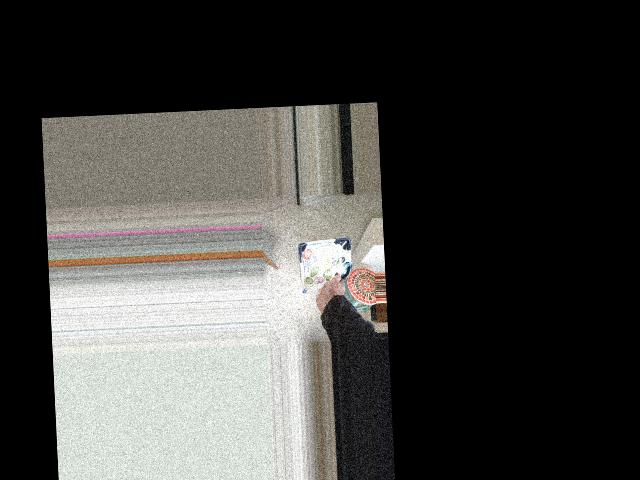cheese: (291, 239, 360, 309)
